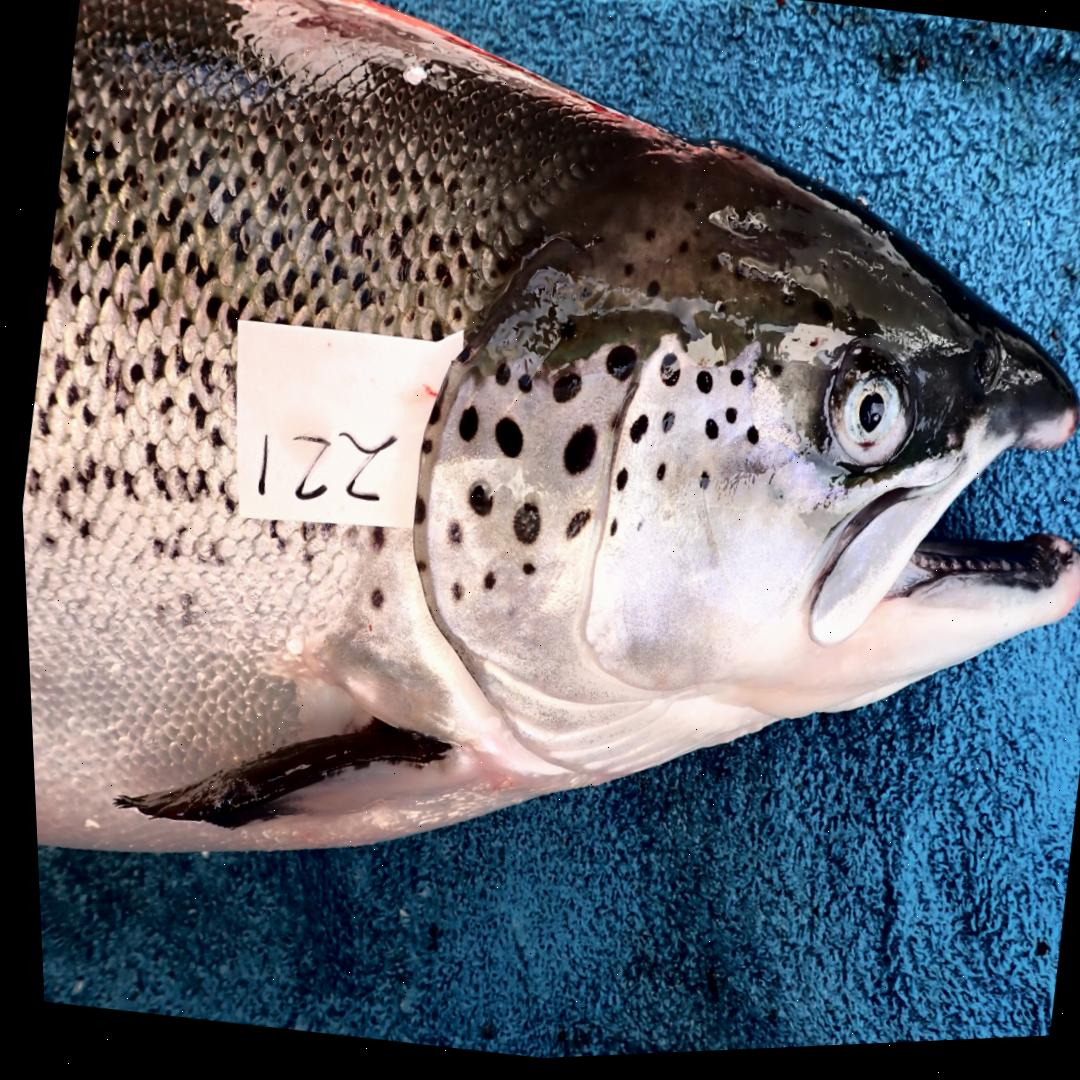spot: (557, 429, 592, 479), (506, 505, 535, 547), (489, 420, 518, 462), (601, 348, 632, 384), (546, 377, 577, 407), (462, 487, 487, 520), (654, 357, 676, 393), (559, 514, 585, 543), (453, 409, 473, 445), (623, 419, 643, 448), (490, 366, 507, 390), (691, 376, 707, 400), (408, 500, 420, 527), (422, 406, 435, 429), (442, 526, 456, 547), (610, 473, 622, 496), (699, 424, 712, 445), (512, 378, 527, 396), (725, 374, 739, 392), (657, 416, 669, 437), (740, 432, 754, 450), (444, 585, 457, 603), (649, 468, 661, 486), (720, 412, 732, 430), (476, 575, 488, 592), (693, 477, 704, 494), (602, 522, 612, 539), (765, 370, 778, 383), (515, 567, 527, 579), (416, 443, 426, 457)
